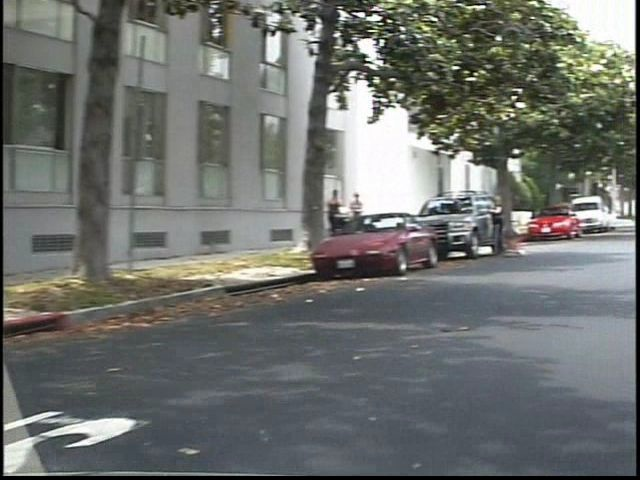person: (504, 192, 533, 263), (339, 182, 365, 250), (361, 188, 383, 246)
